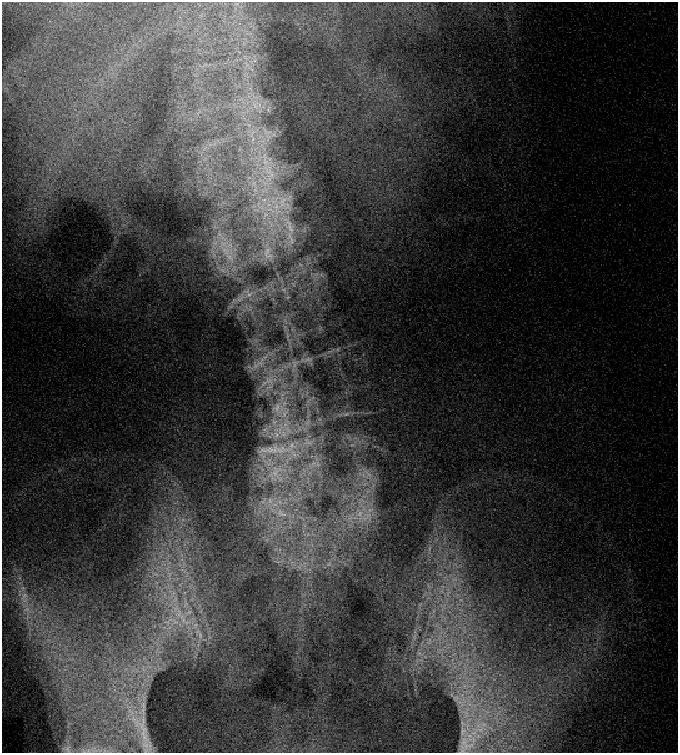lumbar scoliosis: (166, 38, 388, 536)
